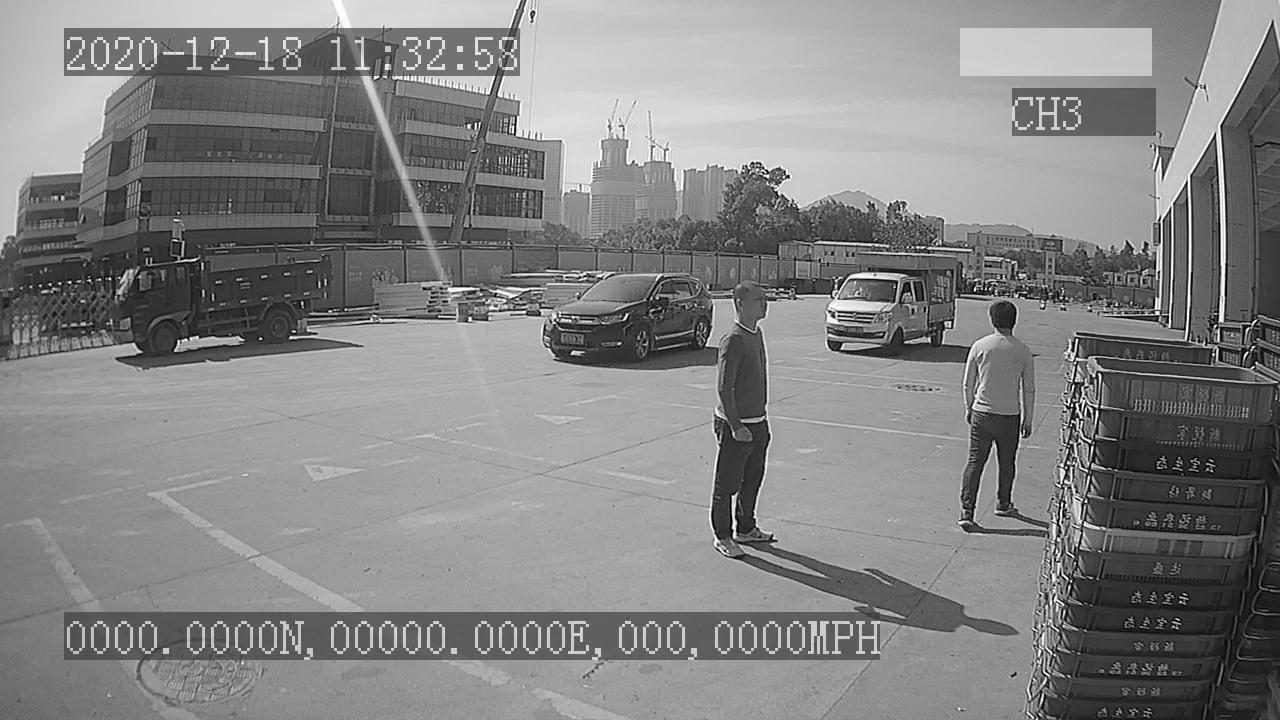person: (957, 295, 1035, 530)
